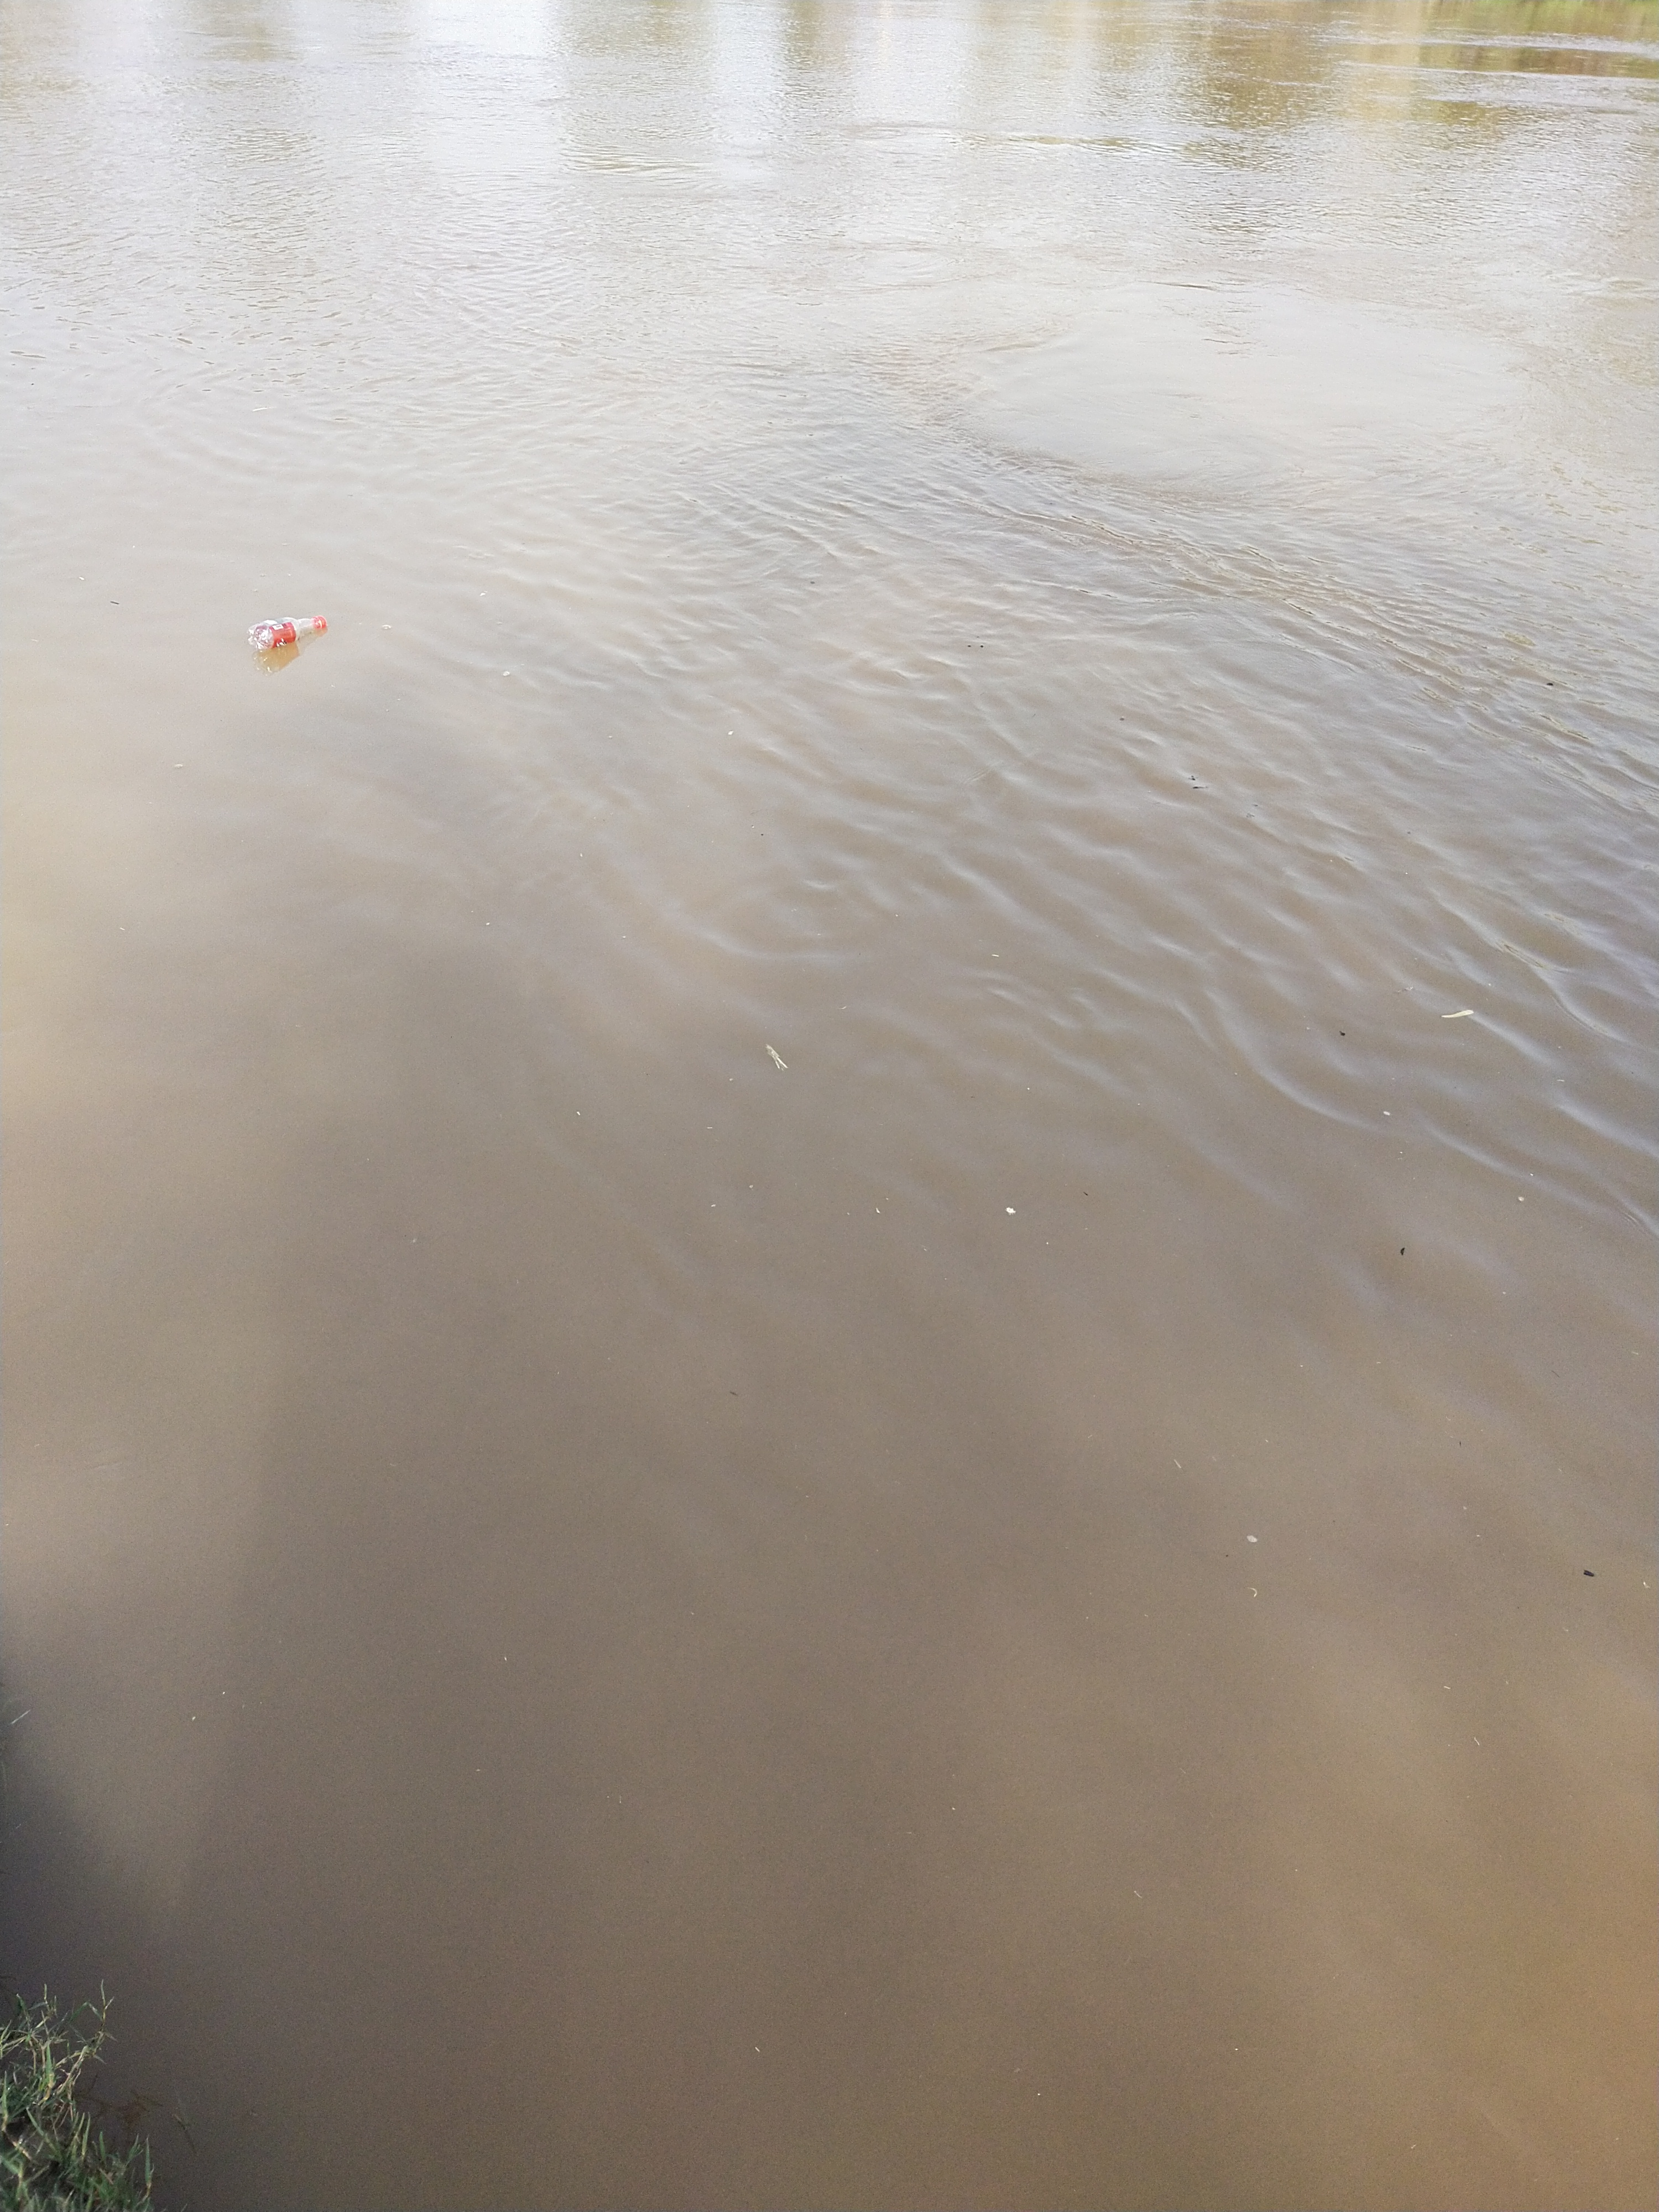Plastic Bottle: (247, 615, 326, 650)
